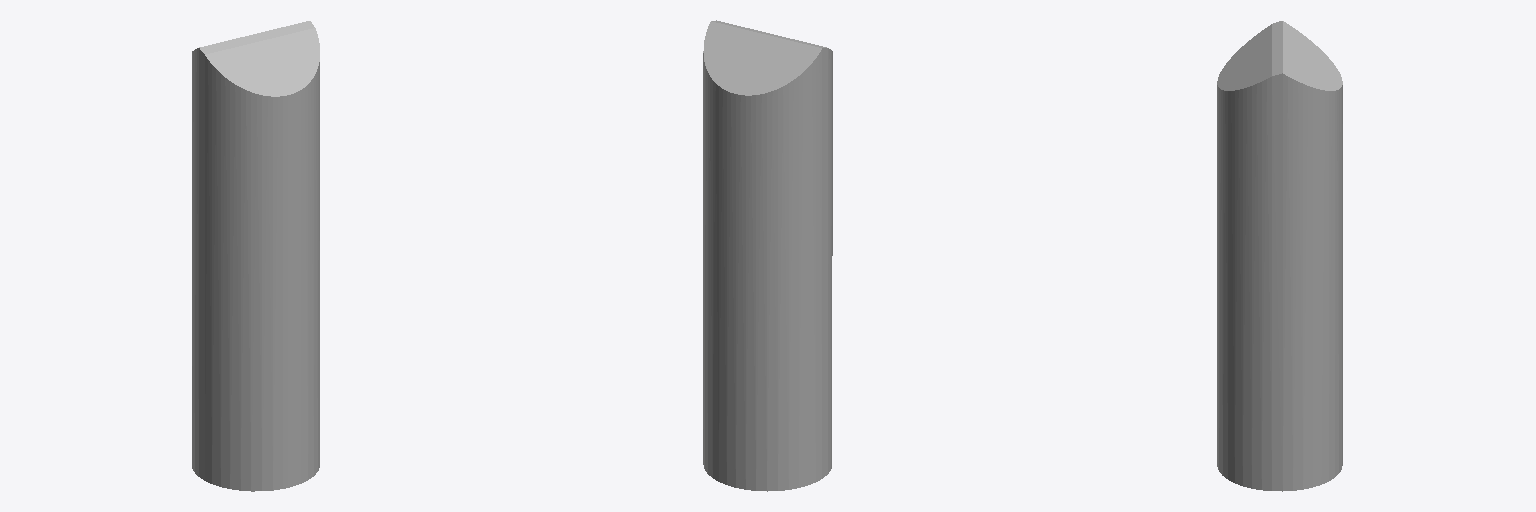
robot.urdf — root:
<robot name="root">
  <link name="link_Pencil_convex_piece_0">
    <inertial>
      <origin xyz="0 0 0" rpy="0 0 0"/>
      <mass value="2.91E-01"/>
      <inertia ixx="8.60E-04" ixy="-6.66E-11" ixz="9.49E-09" iyy="8.61E-04" iyz="-2.02E-08" izz="9.53E-05"/>
    </inertial>
    <visual>
      <origin xyz="0 0 0" rpy="0 0 0"/>
      <geometry>
        <mesh filename="Pencil_convex_piece_0.obj" scale="1.0000E+00 1.0000E+00 1.0000E+00"/>
      </geometry>
      <material name="">
        <color rgba="7.50E-01 7.50E-01 7.50E-01 1"/>
      </material>
    </visual>
    <collision>
      <origin xyz="0 0 0" rpy="0 0 0"/>
      <geometry>
        <mesh filename="Pencil_convex_piece_0.obj" scale="1.0000E+00 1.0000E+00 1.0000E+00"/>
      </geometry>
    </collision>
  </link>
</robot>

--- Render facts (derived) ---
3 views of the same robot in one strip: view 1: azimuth 30°, elevation 25°; view 2: azimuth 150°, elevation 25°; view 3: azimuth 270°, elevation 25° (orthographic).
Robot: root — 1 links, 0 joints (none); root link link_Pencil_convex_piece_0; default pose: all joints at 0.
Visible links, largest first — view 1: link_Pencil_convex_piece_0; view 2: link_Pencil_convex_piece_0; view 3: link_Pencil_convex_piece_0.
Link boxes in pixels (<box>): link_Pencil_convex_piece_0: <box>192,21,319,491</box>; link_Pencil_convex_piece_0: <box>703,20,832,491</box>; link_Pencil_convex_piece_0: <box>1217,21,1342,491</box>.
Size in the robot's own frame: 0.0514 by 0.0514 by 0.1892 metres.
Meshes: 1 distinct files referenced, 1 mesh visuals loaded (1 OBJ).
